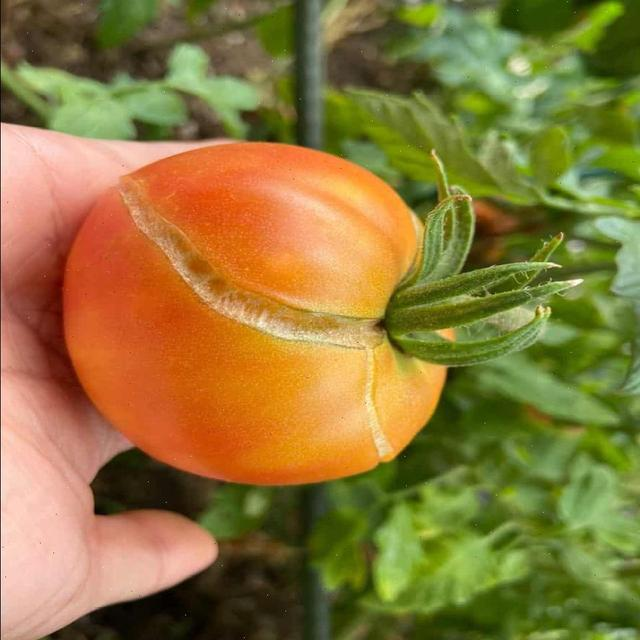Cracking Fruit: (227, 216, 281, 320)
